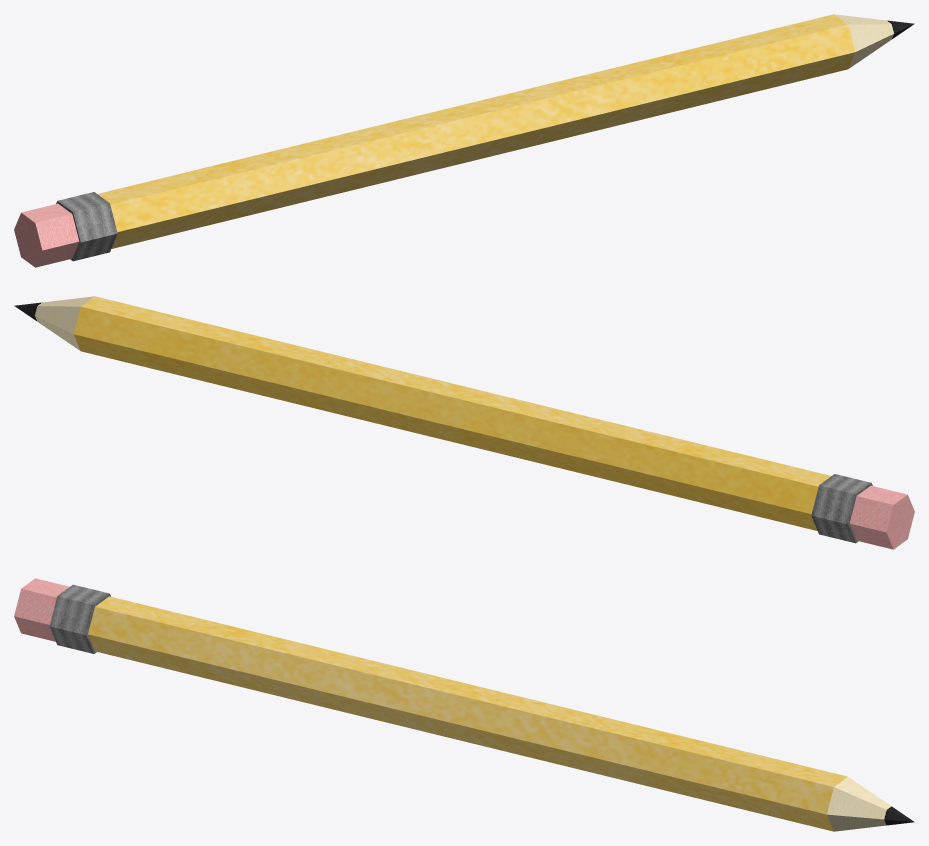
File: pencil_paperlike.fbx
3 views of the same model, one above another, from view 1: azimuth 30°, elevation 25°; view 2: azimuth 150°, elevation 25°; view 3: azimuth 330°, elevation 25° (orthographic).
Parts seen in each view (by area): view 1: Cylinder.001; view 2: Cylinder.001; view 3: Cylinder.001.
Part boxes in pixels (left/top/right/bottom): Cylinder.001: left=14, top=14, right=914, bottom=267; Cylinder.001: left=14, top=296, right=914, bottom=549; Cylinder.001: left=14, top=578, right=914, bottom=831.
Size of the model in its own units: 360 by 19.05 by 22.
